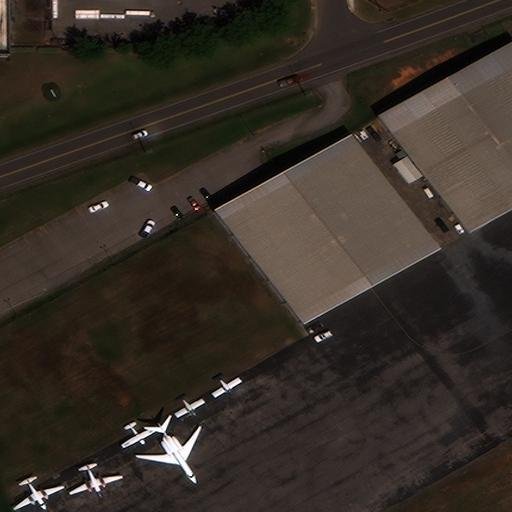Medium Civil Transport: (136, 421, 202, 483), (69, 462, 123, 496), (13, 476, 65, 510)
Small Civil Transport: (123, 422, 157, 448), (214, 375, 243, 398), (177, 395, 205, 418)
